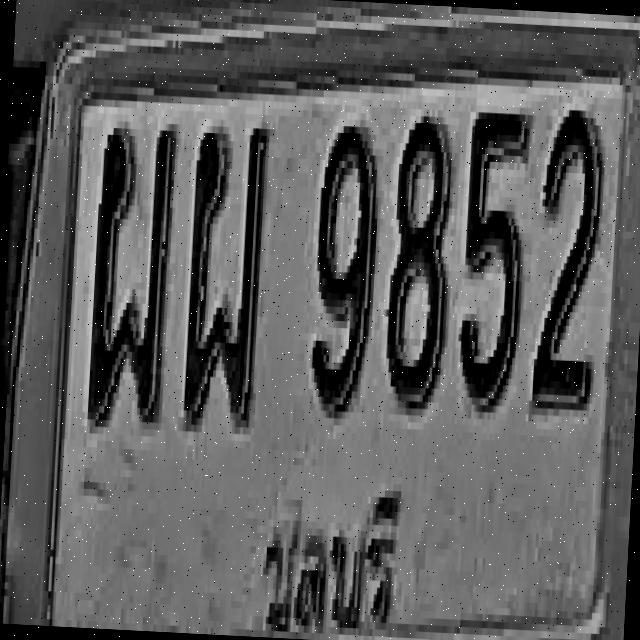2: (530, 102, 606, 411)
37PhorPhueng: (86, 120, 178, 430), (180, 119, 270, 428)
5: (457, 105, 532, 414)
8: (382, 108, 456, 410)
9: (308, 118, 381, 420)
Chonburi: (250, 470, 417, 640)
